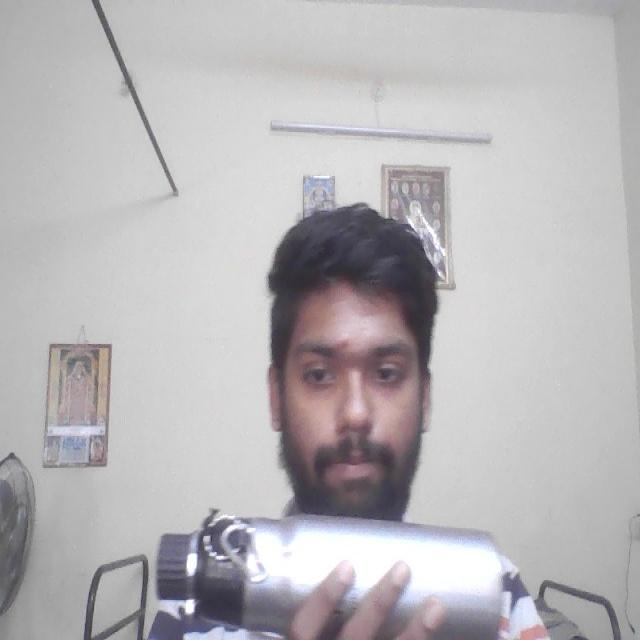Drinking: (161, 514, 505, 627)
